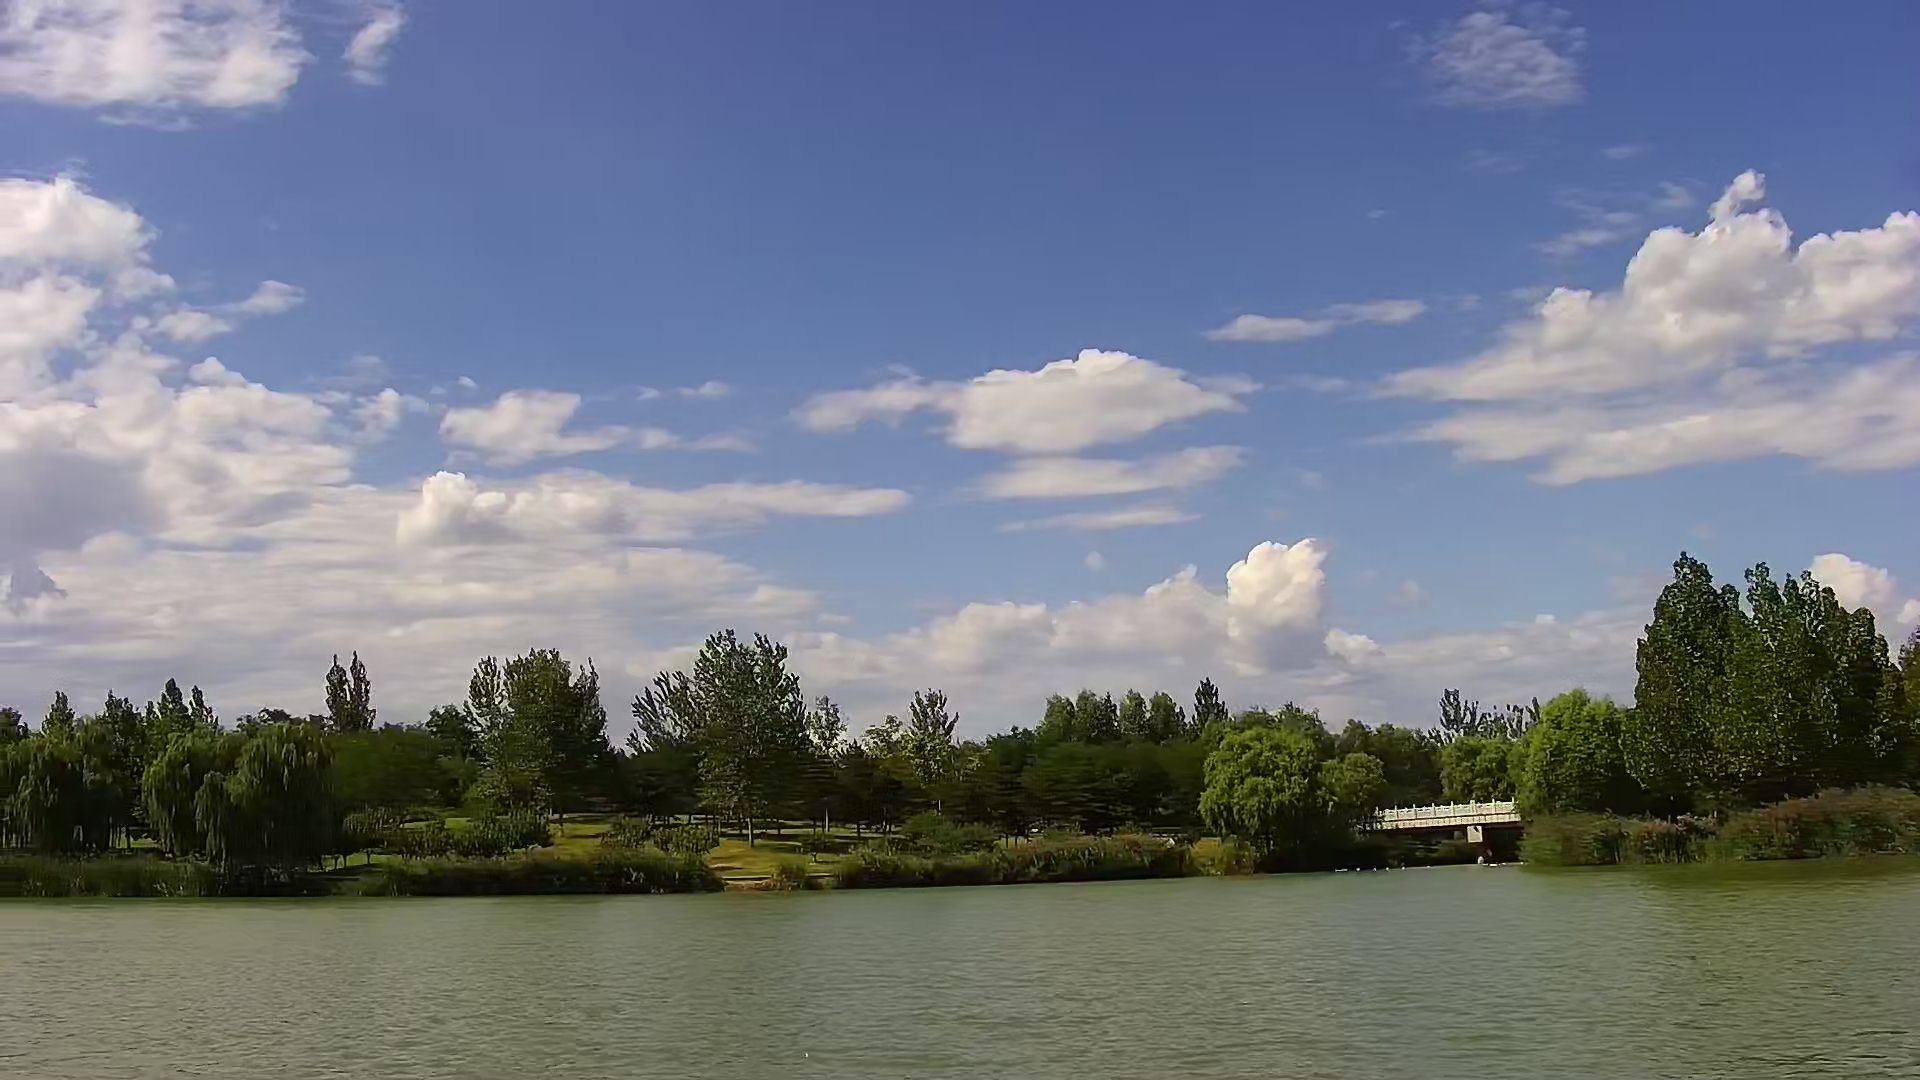bridge: (1379, 796, 1520, 860)
